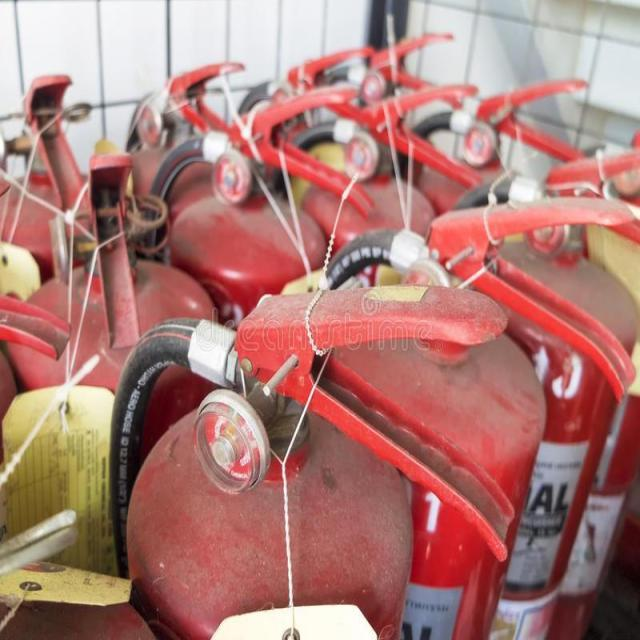fire_extinguisher: (264, 188, 640, 639), (104, 276, 518, 639), (146, 78, 384, 639), (0, 141, 222, 639)
